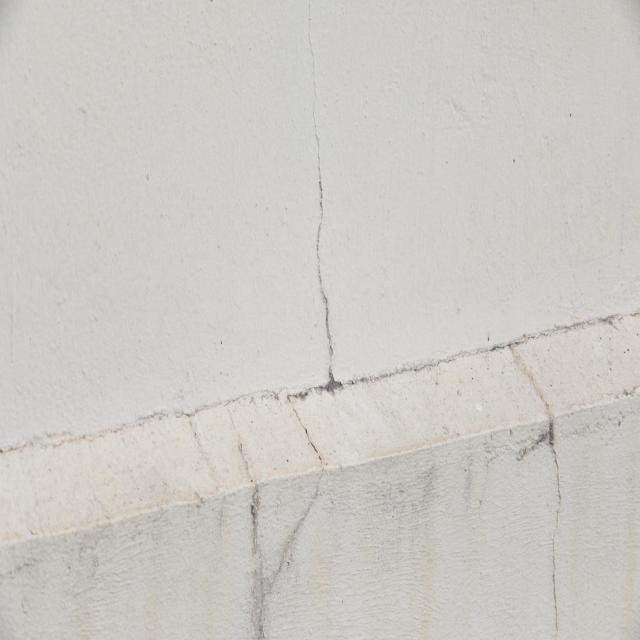SurfaceCrack: (2, 263, 624, 629)
